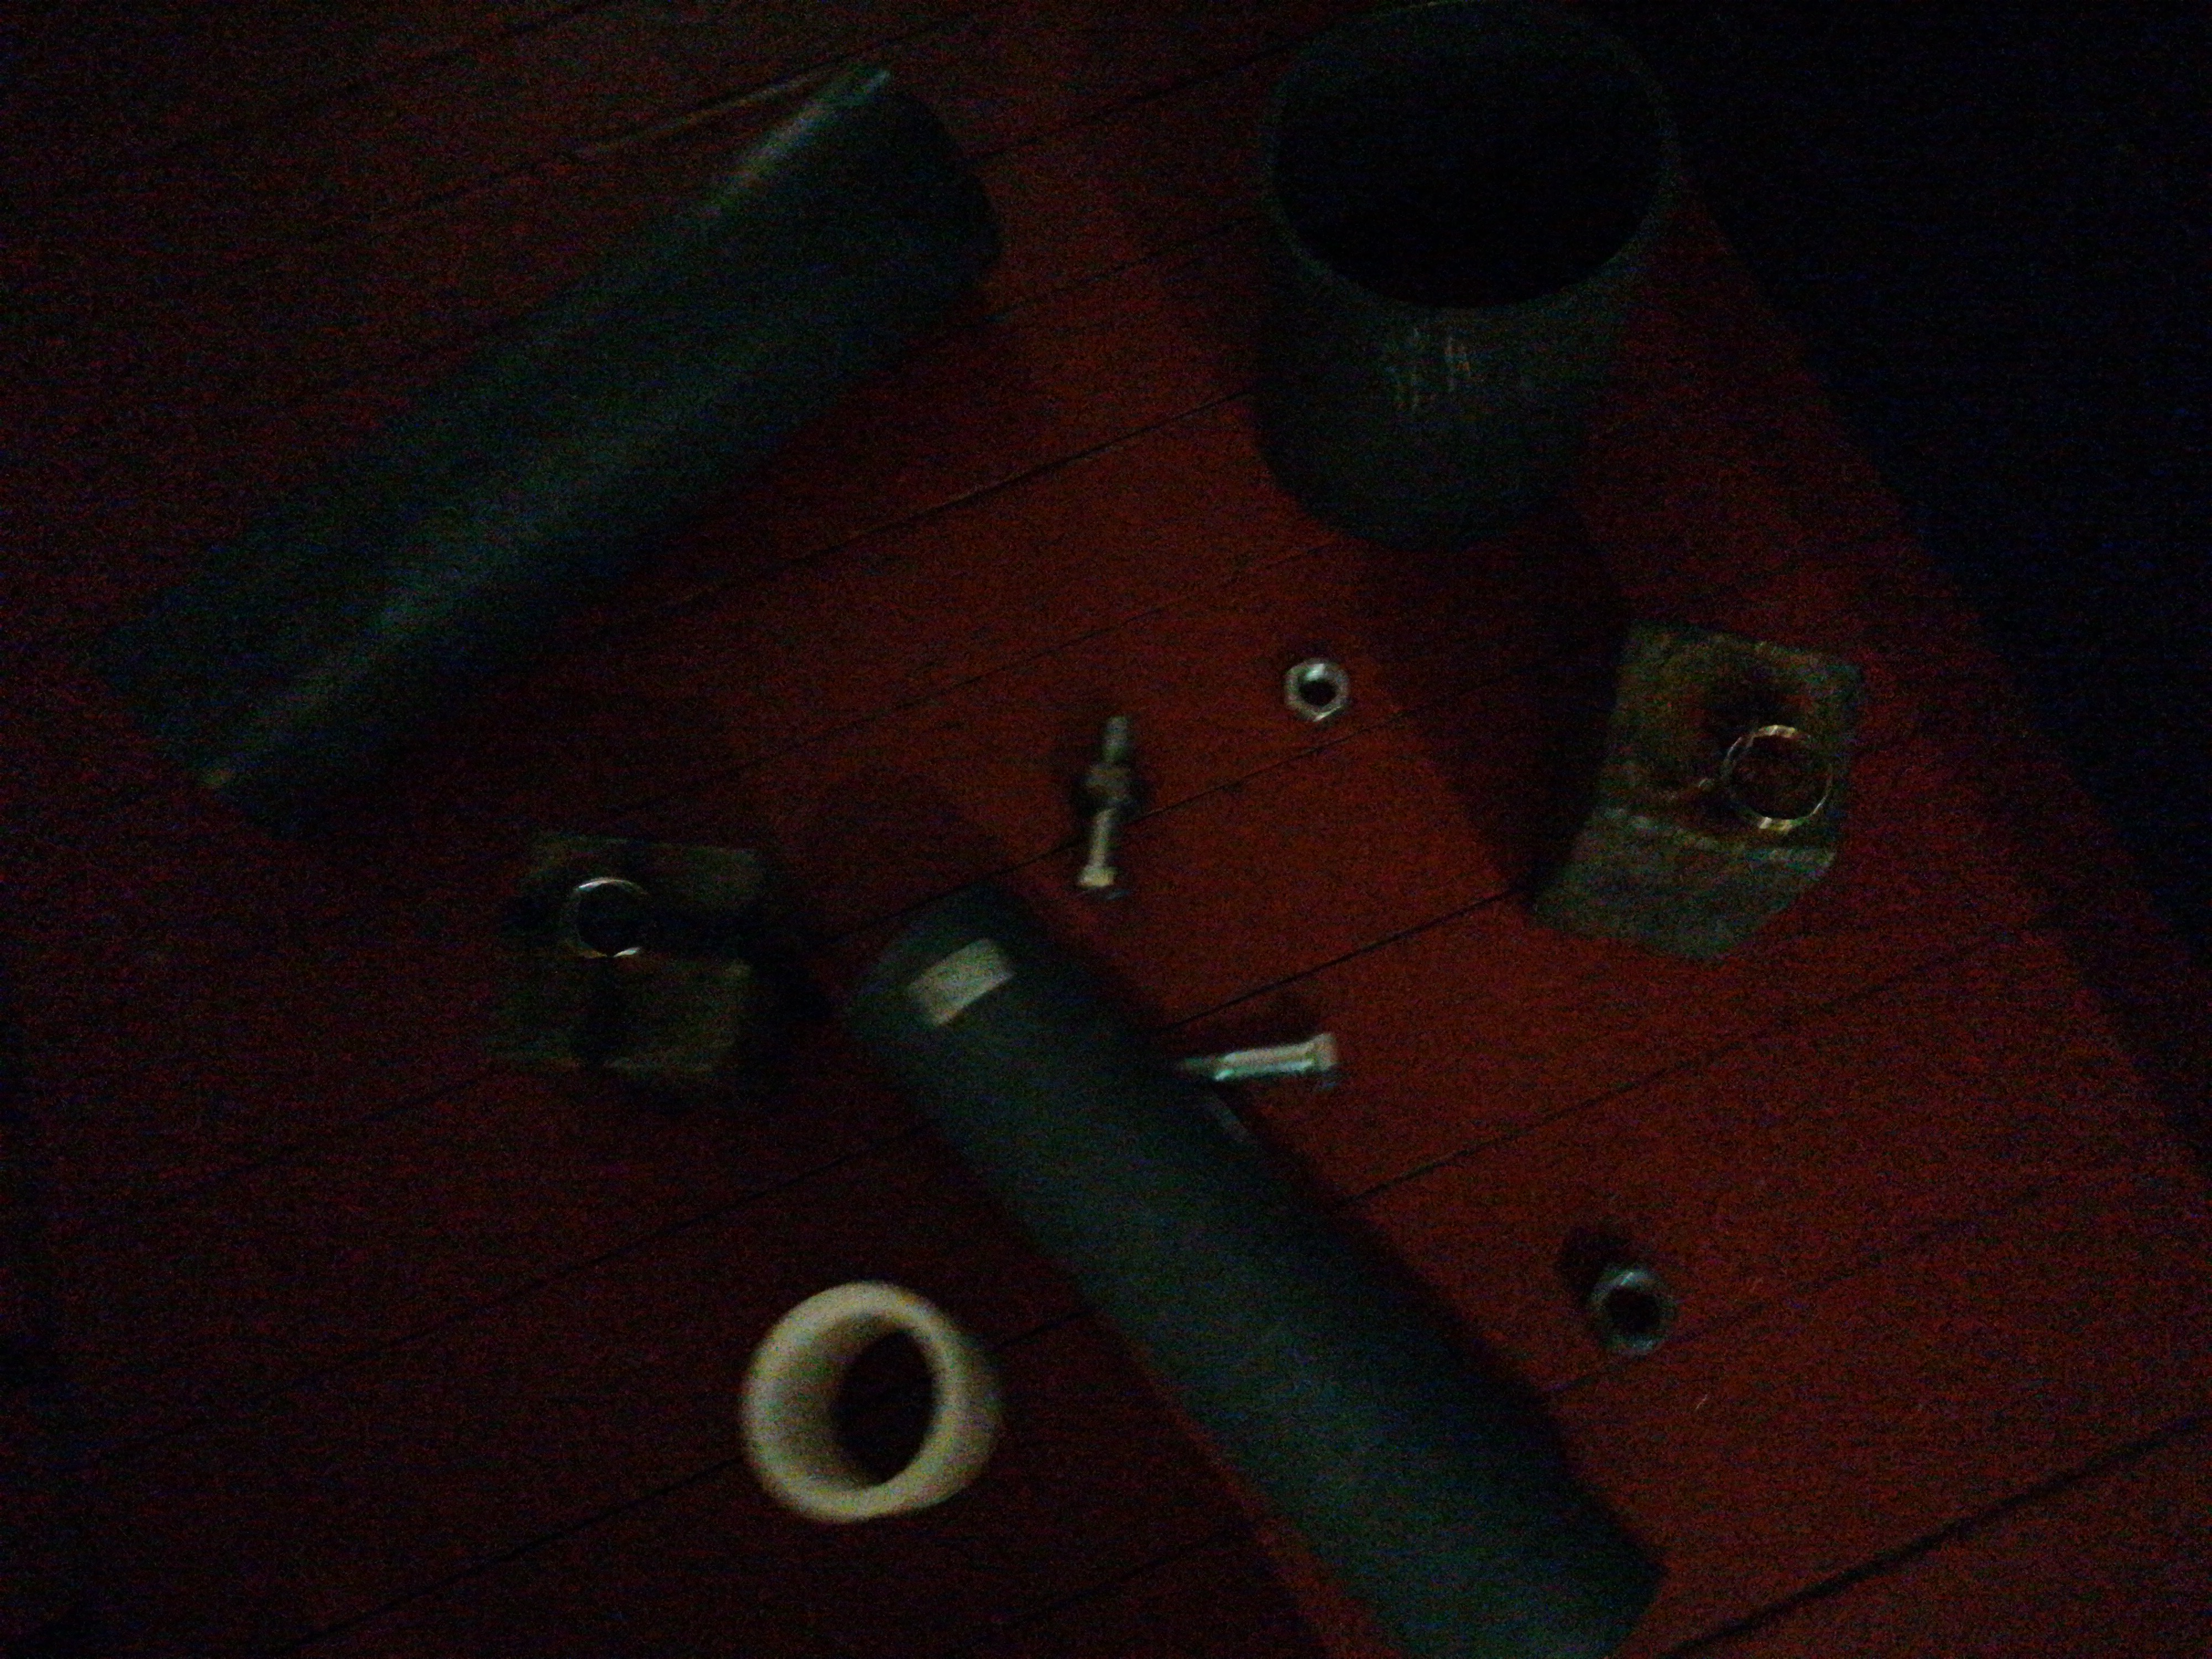bolt: (1075, 713, 1141, 901), (1184, 1028, 1341, 1089)
led_block: (1534, 622, 1869, 960), (489, 819, 820, 1127)
nut: (1587, 1260, 1672, 1356), (1282, 653, 1353, 734), (1069, 762, 1157, 817)
pipe: (91, 59, 1000, 842), (852, 880, 1663, 1656), (1249, 2, 1677, 545), (737, 1279, 1001, 1525)
